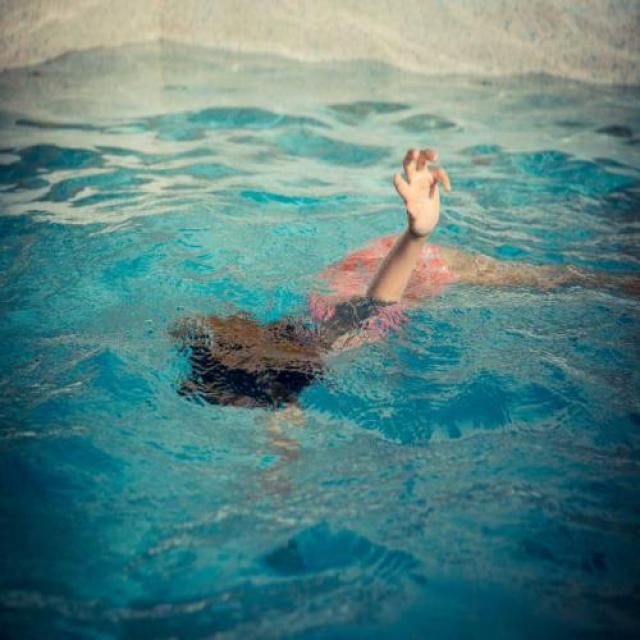drowning: (104, 51, 463, 434)
